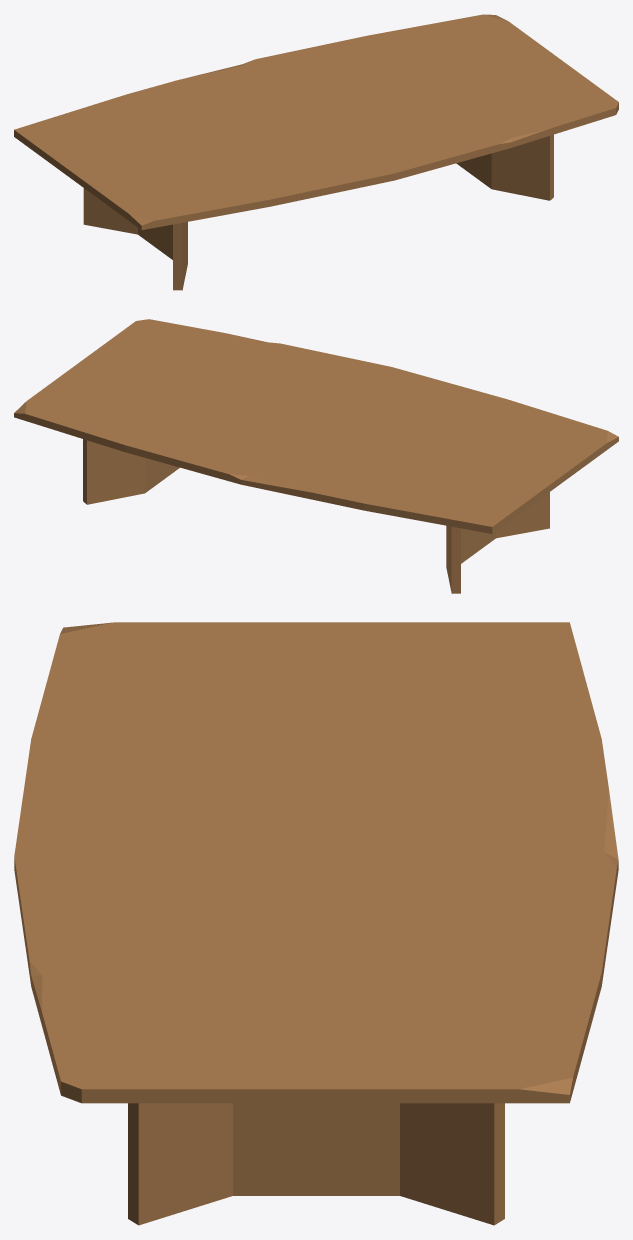
File: Table_Conference_01.FBX
3 renders of one model, top to bottom at view 1: azimuth 30°, elevation 25°; view 2: azimuth 150°, elevation 25°; view 3: azimuth 270°, elevation 25°, orthographic. The views are drawn at different scales.
Visible parts, largest first — view 1: Table_Conference_01; view 2: Table_Conference_01; view 3: Table_Conference_01.
Part boxes in pixels (left/top/right/bottom): Table_Conference_01: left=14, top=14, right=618, bottom=290; Table_Conference_01: left=14, top=319, right=618, bottom=593; Table_Conference_01: left=14, top=622, right=618, bottom=1225.
Bounding box in the file's own units: 406 × 75 × 222.
